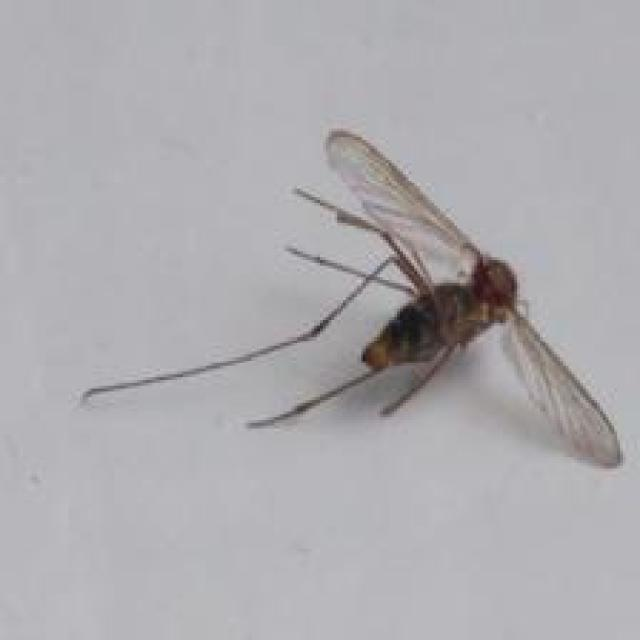Culex: (80, 126, 626, 471)
